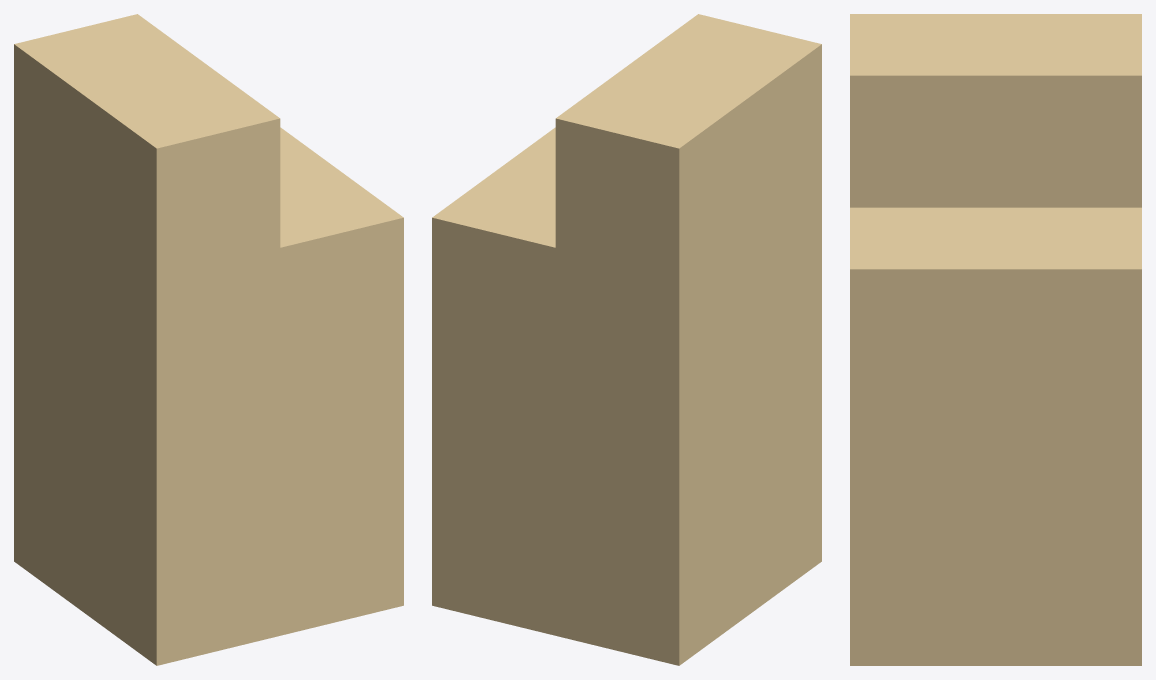
The model's file is puppy__leg_br.glb.
3 renders of one model, left to right at view 1: azimuth 30°, elevation 25°; view 2: azimuth 150°, elevation 25°; view 3: azimuth 270°, elevation 25°, orthographic. The views are drawn at different scales.
Parts seen in each view (by area): view 1: puppy__leg_br; view 2: puppy__leg_br; view 3: puppy__leg_br.
Part boxes in pixels (left/top/right/bottom): puppy__leg_br: left=14, top=14, right=403, bottom=665; puppy__leg_br: left=432, top=14, right=821, bottom=665; puppy__leg_br: left=850, top=14, right=1141, bottom=665.
Bounding box in the file's own units: 0.2 × 0.4 × 0.2.
1 material, 1 textured.
